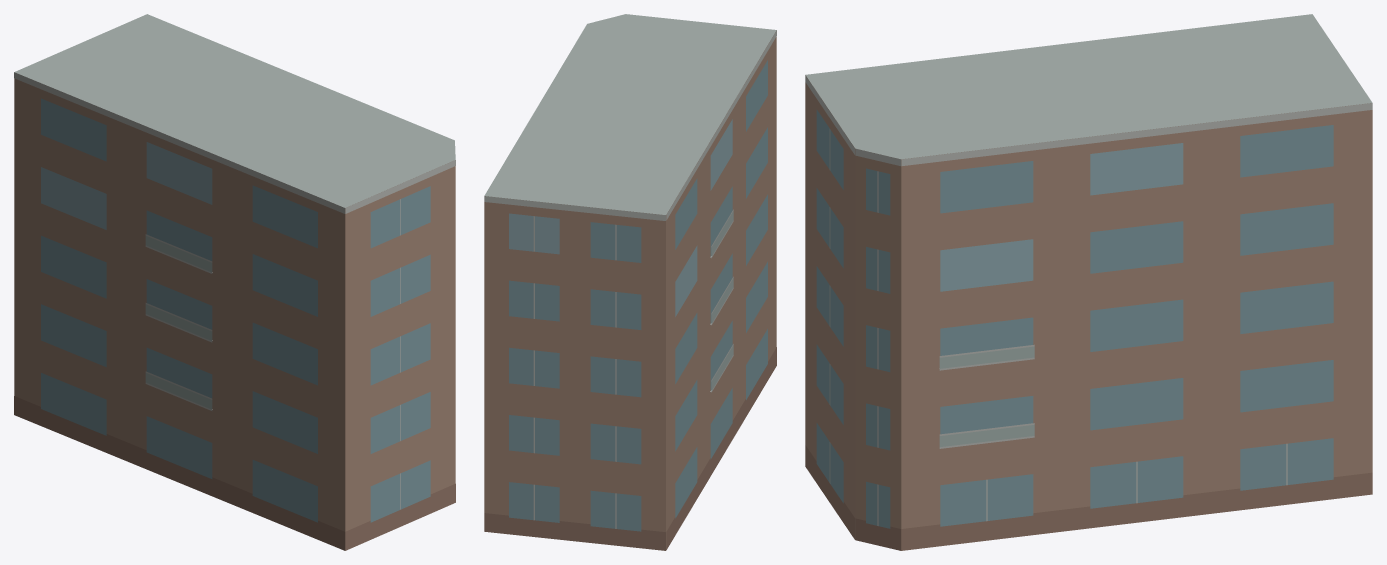
The model's file is survey-upis-32977497.glb.
3 views of the same model, side by side, from view 1: azimuth 30°, elevation 25°; view 2: azimuth 150°, elevation 25°; view 3: azimuth 270°, elevation 25° (orthographic). The views are drawn at different scales.
Parts seen in each view (by area): view 1: survey-upis-32977497.tmp; view 2: survey-upis-32977497.tmp; view 3: survey-upis-32977497.tmp.
Part boxes in pixels (x1=…): survey-upis-32977497.tmp: x1=14, y1=14, x2=455, y2=550; survey-upis-32977497.tmp: x1=484, y1=14, x2=776, y2=550; survey-upis-32977497.tmp: x1=805, y1=14, x2=1372, y2=550.
Bounding box in the file's own units: 10.87 × 13.65 × 17.93.
